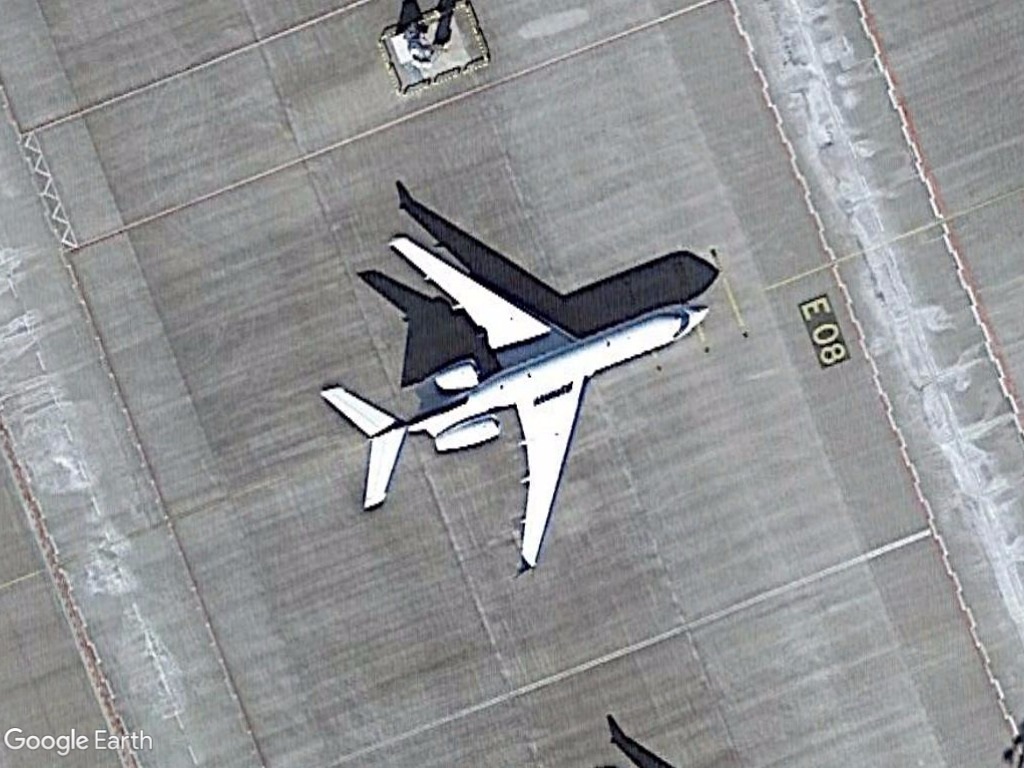chartered: (306, 232, 724, 582)
